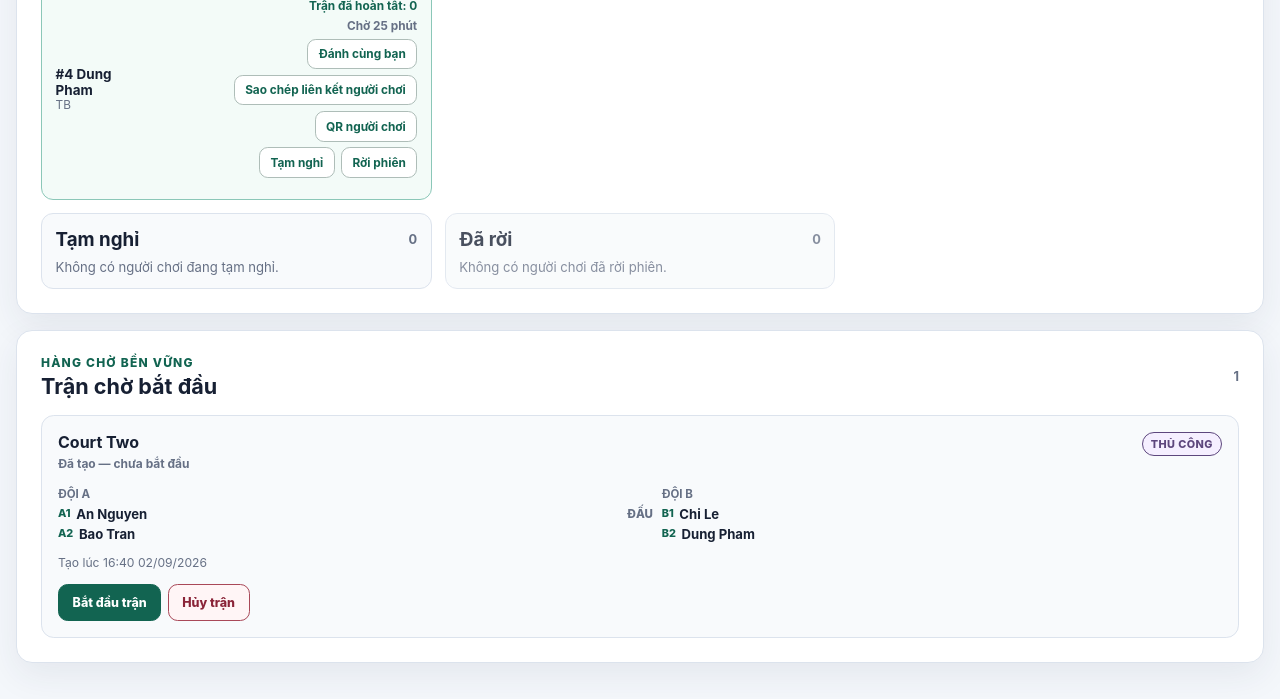
Test case: Start Match mutation › does not retry an unknown Start outcome and lets refreshed GET state decide
The width and height of the screenshot is (1280, 699).
(page scrolled)
Click the button "Bắt đầu trận" at (110, 602), box [58,584,161,621]
(page scrolled)
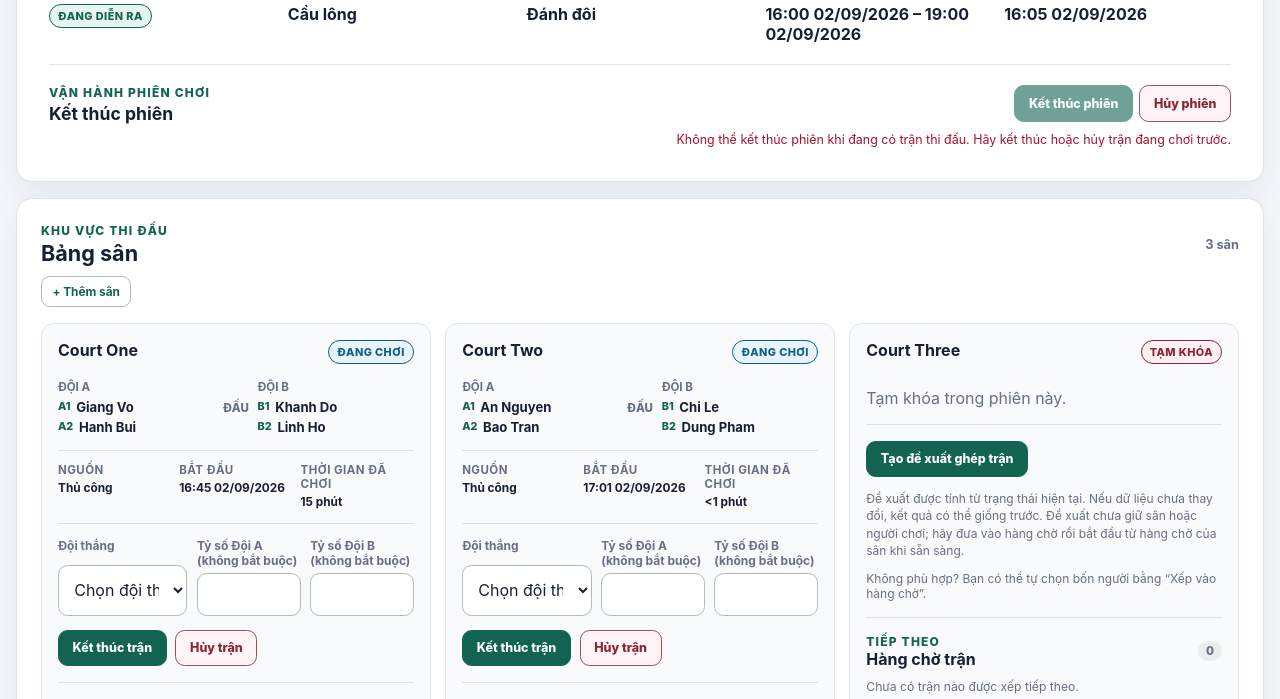
Result: the text "Đã tạo — chưa bắt đầu" is gone
Result: the text "Đang chơi" in the row of "Court Two" is shown at [741,345,809,359]
